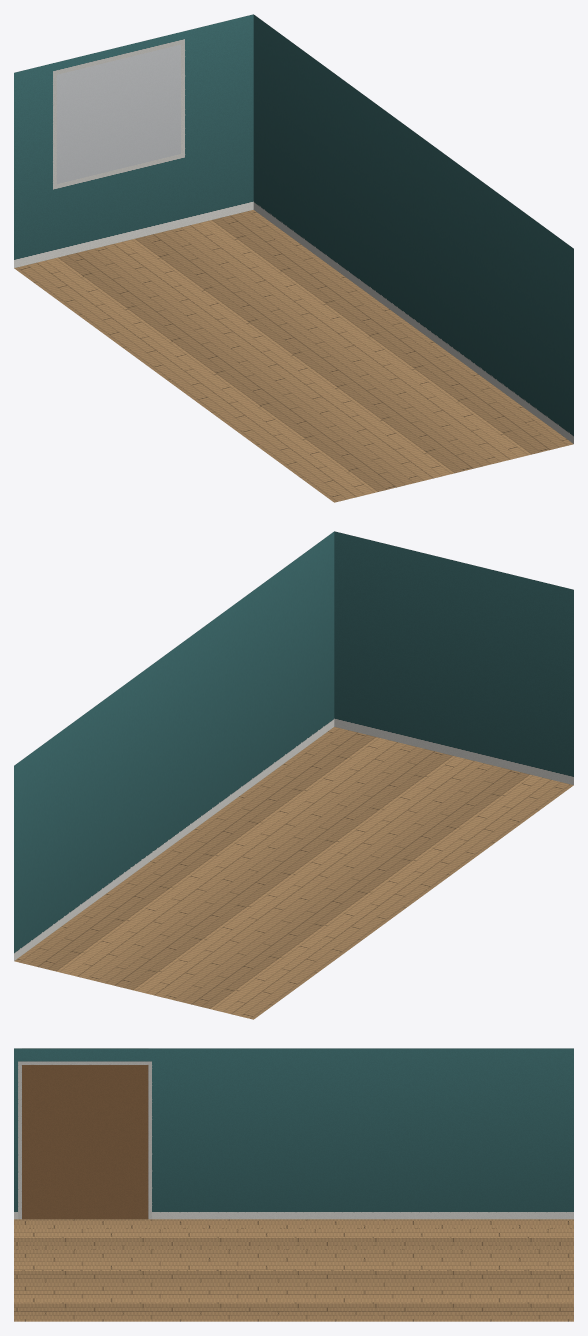
The model's file is room.glb.
3 renders of one model, top to bottom at view 1: azimuth 30°, elevation 25°; view 2: azimuth 150°, elevation 25°; view 3: azimuth 270°, elevation 25°, orthographic. The views are drawn at different scales.
Parts seen in each view (by area): view 1: Floor, East wall, North wall; view 2: Floor, East wall, South wall; view 3: West wall, Floor.
Part boxes in pixels (x1,y1,x2,y2): Floor: [14, 210, 573, 502]; East wall: [253, 14, 573, 443]; North wall: [14, 14, 253, 267]; Floor: [14, 727, 573, 1019]; East wall: [14, 531, 334, 960]; South wall: [334, 531, 573, 784]; West wall: [14, 1048, 573, 1219]; Floor: [14, 1219, 573, 1321].
Bounding box in the file's own units: 3.12 × 2.43 × 7.22.
6 materials, 6 textured.
